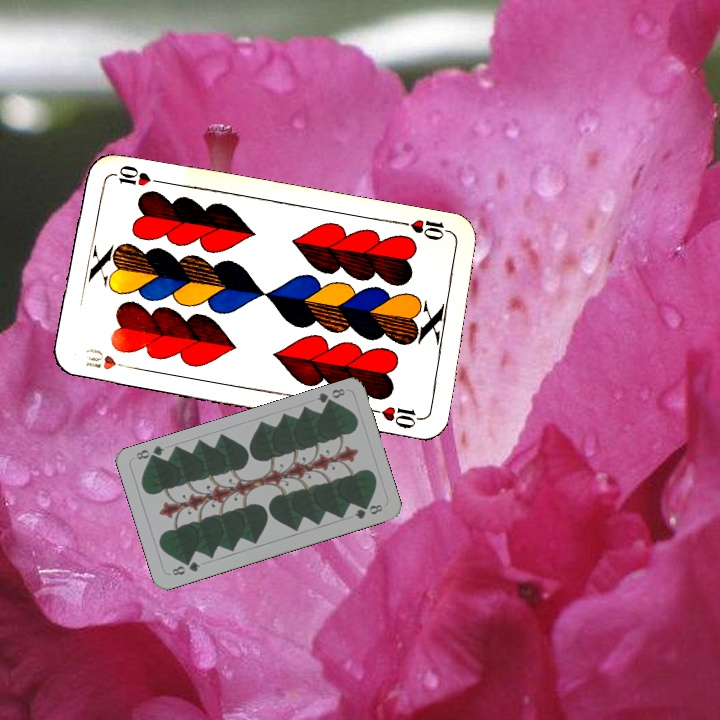G8: (313, 384, 348, 409), (168, 557, 203, 578)
H10: (396, 215, 455, 243), (81, 344, 136, 373)
